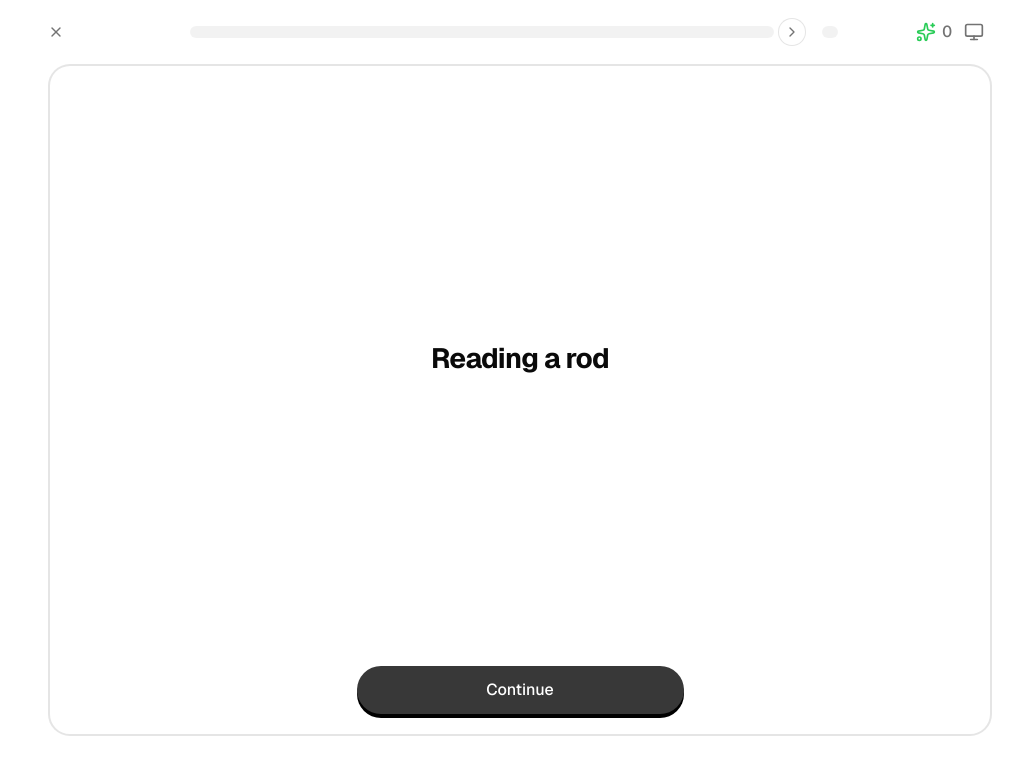
Test case: LessonPlayer › keeps the earlier explanation on screen while the next one arrives
Click the button "Continue": (520, 690) [356, 666, 684, 714]
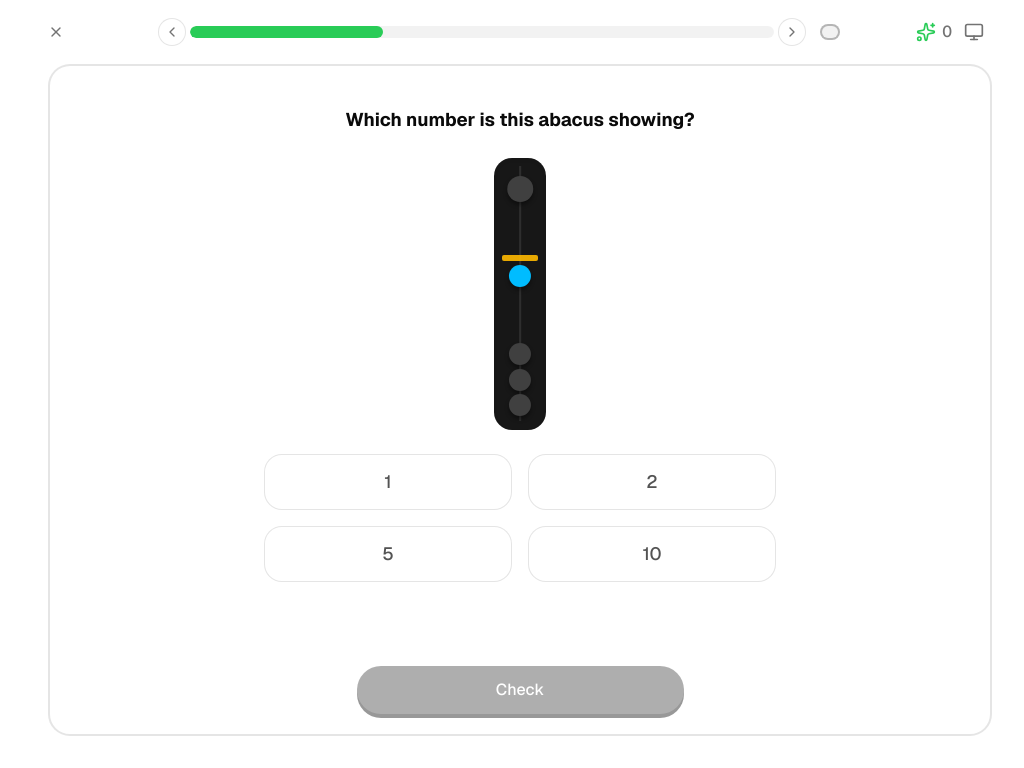
Click the button "1": (388, 482) [264, 454, 512, 510]
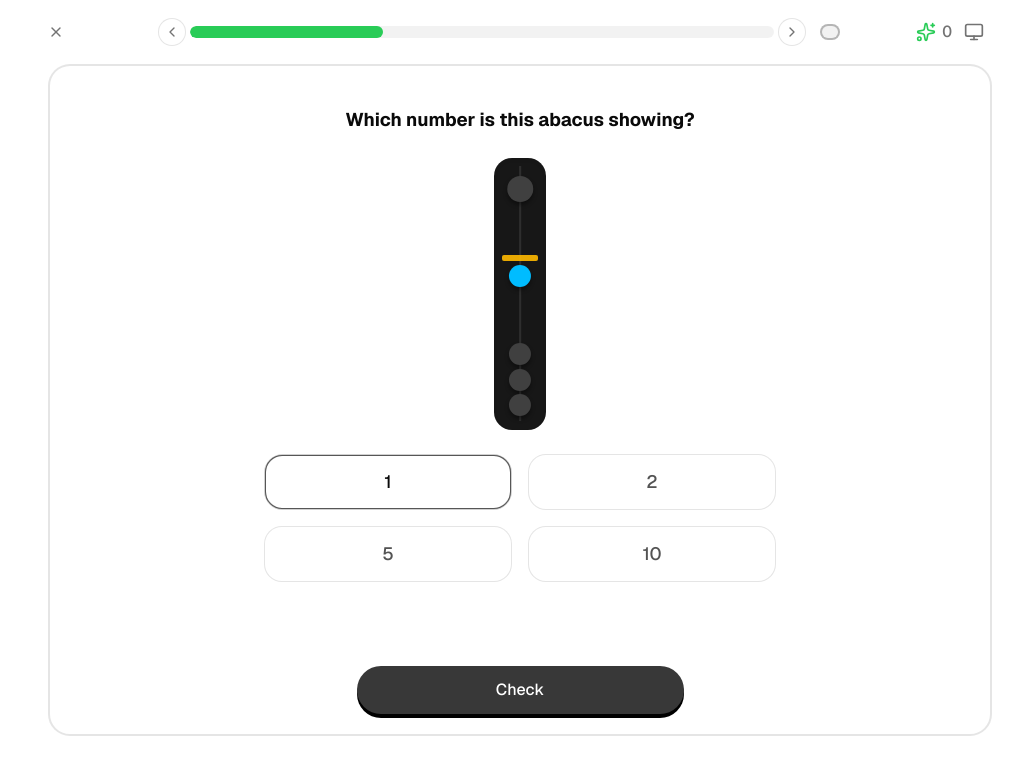
Click the button "Check": (520, 690) [356, 666, 684, 714]
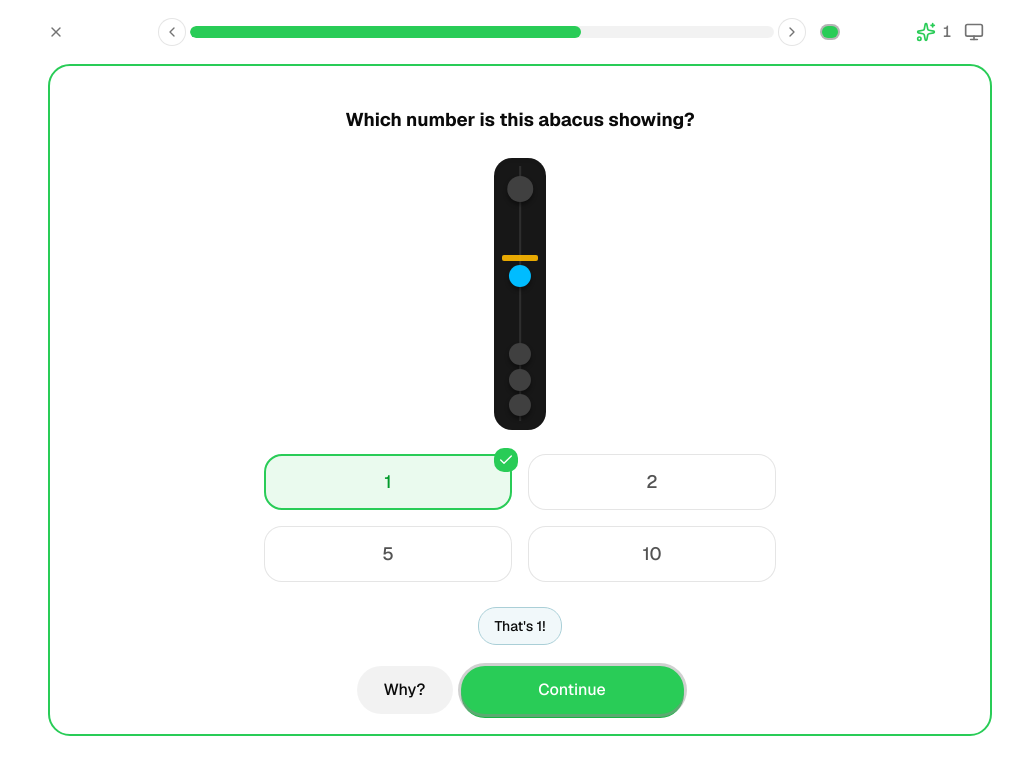
Click the button "Why?": (404, 690) [356, 666, 452, 714]
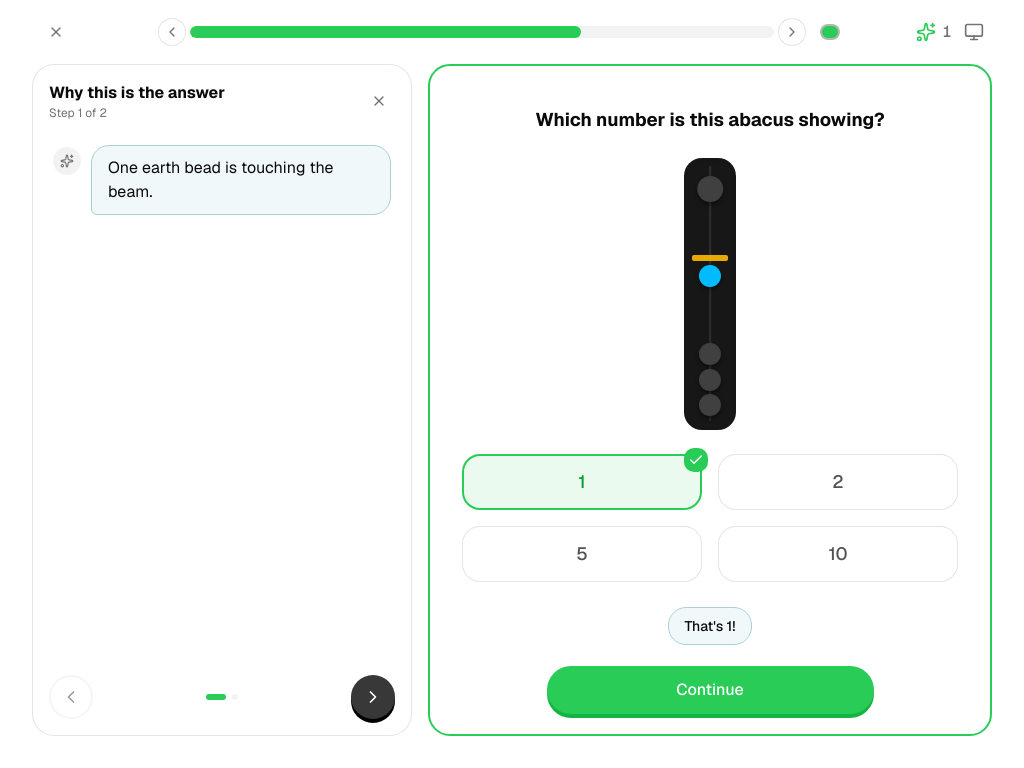
Click the 2nd button named "Next step": (373, 697) [351, 675, 395, 719]
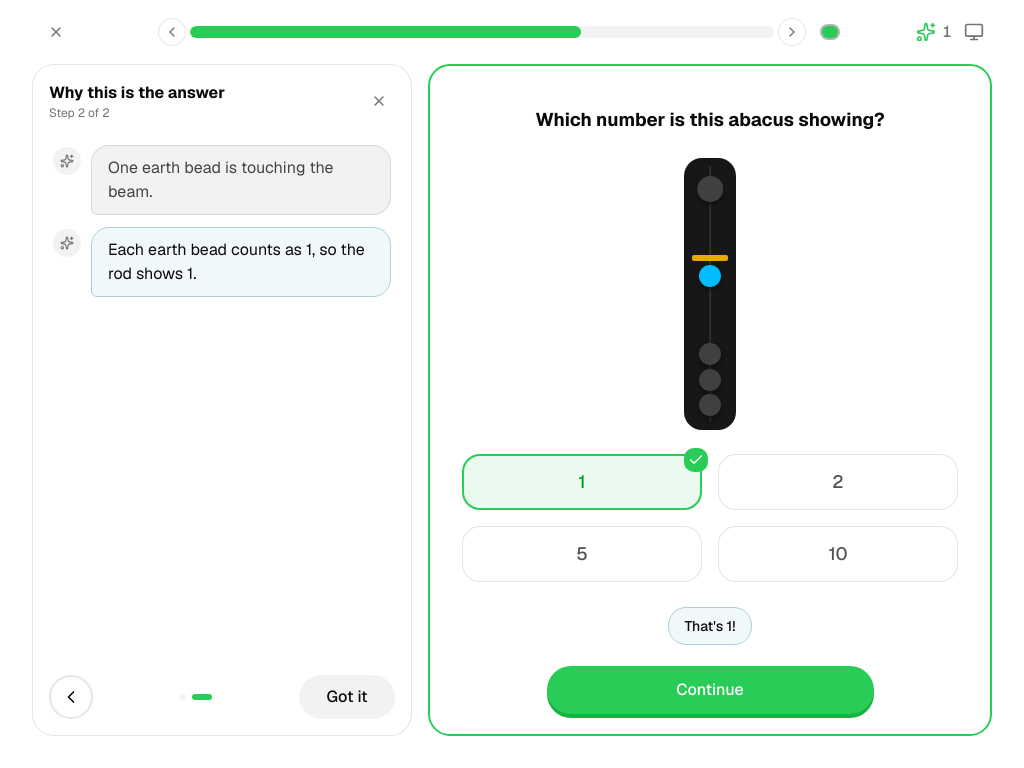
Now the text "One earth bead is touching the beam." is shown, box [108, 157, 334, 202]
Now the text "Each earth bead counts as 1, so the rod shows 1." is shown, box [108, 238, 374, 286]
Now the text "Step 2 of 2" is shown, box [49, 105, 110, 121]
